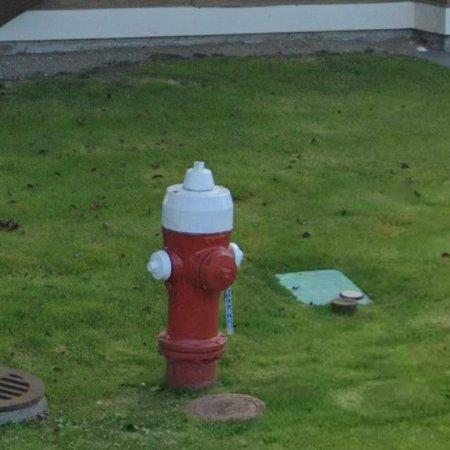a fire hydrant: (148, 161, 243, 390)
